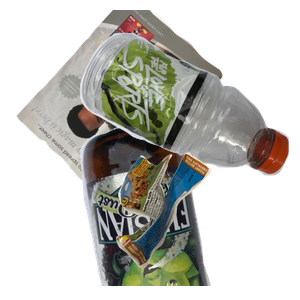glass: (78, 120, 281, 300)
paper: (14, 10, 229, 190)
plastic: (77, 30, 300, 198)
trash: (114, 151, 300, 300)
